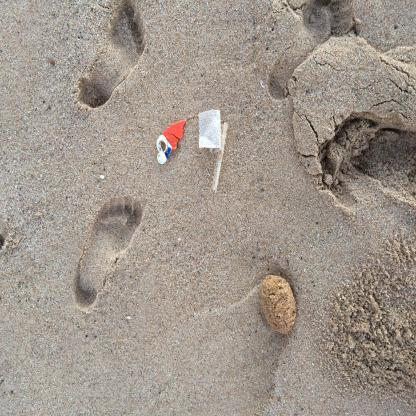plastik: (199, 110, 223, 150), (164, 120, 188, 152), (157, 136, 173, 166)
